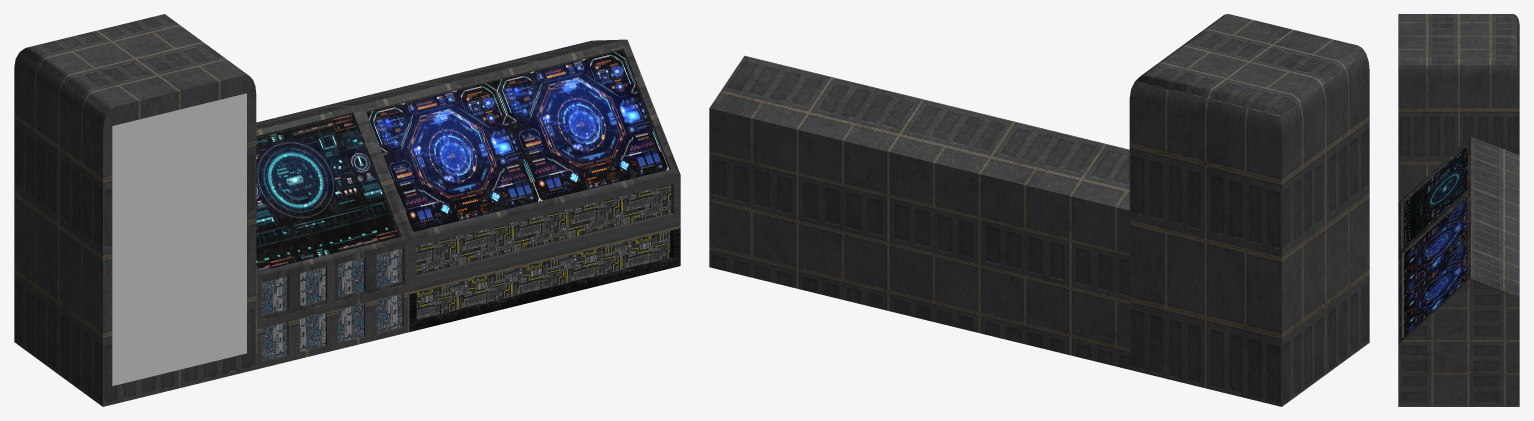
Rendered from sci_fi_supercomputer.obj.
The picture shows the model from 3 angles, left to right: view 1: azimuth 30°, elevation 25°; view 2: azimuth 150°, elevation 25°; view 3: azimuth 270°, elevation 25°; orthographic projection. The views are drawn at different scales.
Visible parts, largest first — view 1: Sci_fi_supercomputer; view 2: Sci_fi_supercomputer; view 3: Sci_fi_supercomputer.
Part boxes in pixels (bbox=[...]): Sci_fi_supercomputer: bbox=[14, 14, 680, 406]; Sci_fi_supercomputer: bbox=[709, 14, 1369, 406]; Sci_fi_supercomputer: bbox=[1398, 14, 1519, 406].
Size of the model in its own units: 181 by 88.81 by 48.
